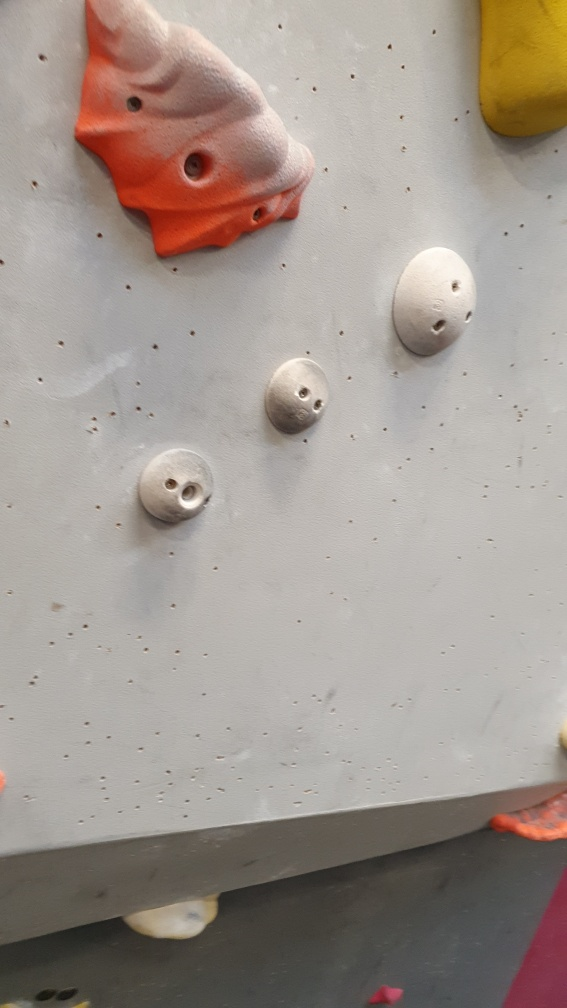Hand Start: (54, 980, 81, 1002), (34, 981, 59, 1004)
Jug: (66, 1, 317, 259), (485, 781, 567, 848)
Sloper: (389, 243, 480, 360), (136, 441, 221, 528), (262, 355, 330, 438)
